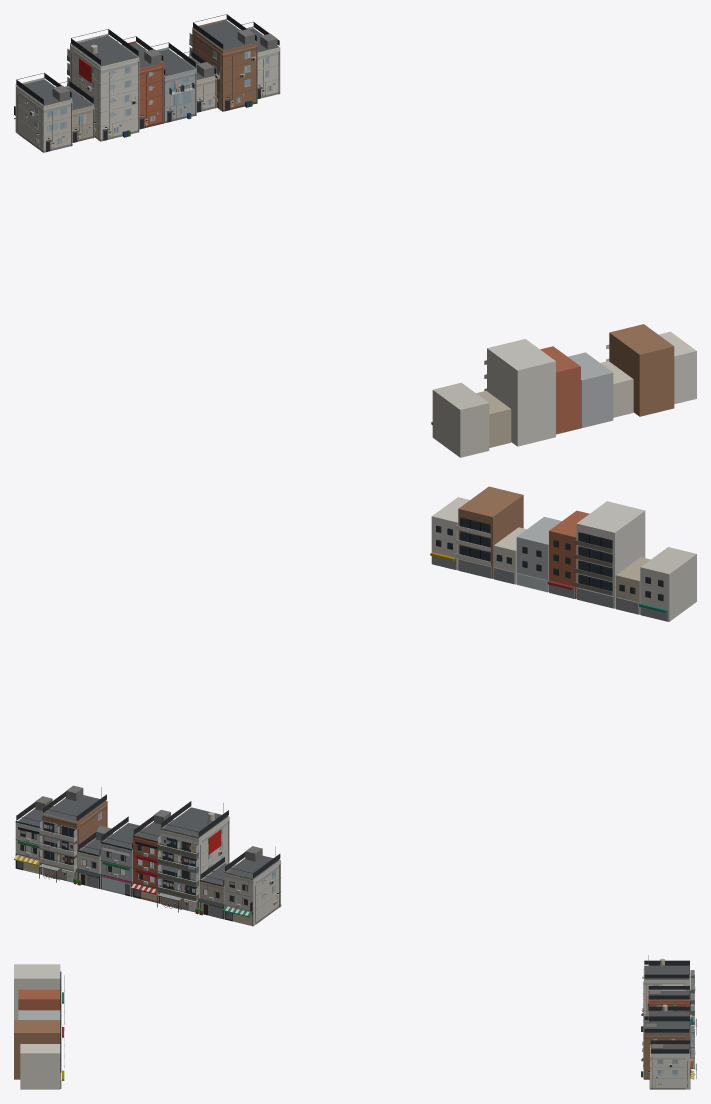
Rendered from machi.glb.
3 renders of one model, top to bottom at view 1: azimuth 30°, elevation 25°; view 2: azimuth 150°, elevation 25°; view 3: azimuth 270°, elevation 25°, orthographic. The views are drawn at different scales.
Parts seen in each view (by area): view 1: machi_c_body, machi_c_lo_mesh, machi_g_body, machi_g_lo_mesh, machi_a_body, machi_a_lo_mesh, machi_e_body, machi_e_lo_mesh, machi_d_body, machi_d_lo_mesh, machi_h_body, machi_h_lo_mesh (+4 smaller); view 2: machi_c_body, machi_c_lo_mesh, machi_g_body, machi_g_lo_mesh, machi_a_body, machi_a_lo_mesh, machi_e_lo_mesh, machi_d_lo_mesh, machi_e_body, machi_d_body, machi_h_lo_mesh, machi_h_body (+4 smaller); view 3: machi_h_body, machi_h_lo_mesh, machi_c_body, machi_g_body, machi_c_lo_mesh, machi_g_lo_mesh, machi_d_lo_mesh, machi_d_body, machi_e_body, machi_e_lo_mesh.
Part boxes in pixels (x1,y1,x2,y2): machi_c_body: (67,29,139,141); machi_c_lo_mesh: (484,339,555,446); machi_g_body: (189,14,257,111); machi_g_lo_mesh: (606,324,674,416); machi_a_body: (14,72,72,152); machi_a_lo_mesh: (431,382,489,457); machi_e_body: (144,42,196,122); machi_e_lo_mesh: (568,352,613,428); machi_d_body: (117,36,164,129); machi_d_lo_mesh: (540,346,580,434); machi_h_body: (235,21,280,98); machi_h_lo_mesh: (659,331,696,404); machi_c_body: (157,801,229,914); machi_c_lo_mesh: (573,501,645,608); machi_g_body: (39,785,107,884); machi_g_lo_mesh: (455,486,523,578); machi_a_body: (222,846,281,926); machi_a_lo_mesh: (639,547,696,621); machi_e_lo_mesh: (516,516,561,592); machi_d_lo_mesh: (547,510,589,598); machi_e_body: (100,816,146,896); machi_d_body: (131,809,173,903); machi_h_lo_mesh: (430,497,469,570); machi_h_body: (14,796,62,874); machi_h_body: (647,1035,694,1089); machi_h_lo_mesh: (20,1044,64,1089); machi_c_body: (641,955,696,1035); machi_g_body: (641,1011,696,1079); machi_c_lo_mesh: (14,964,64,1024); machi_g_lo_mesh: (14,1020,64,1079); machi_d_lo_mesh: (18,989,64,1037); machi_d_body: (647,986,692,1034); machi_e_body: (645,1004,690,1046); machi_e_lo_mesh: (18,1010,61,1026).
Bounding box in the file's own units: 50.37 × 17.8 × 163.
